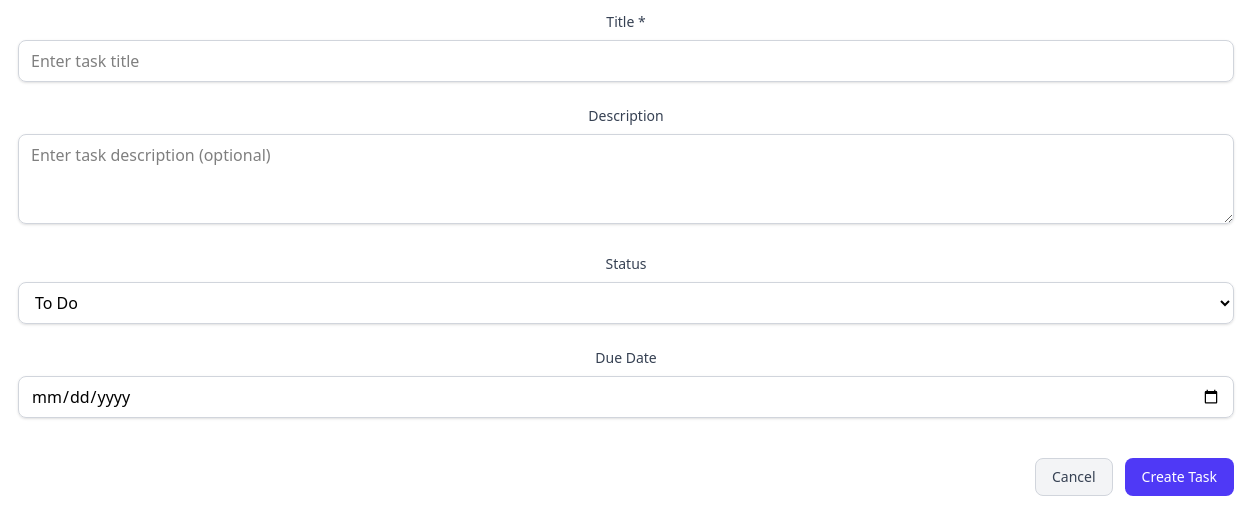
Test: TaskForm › Common behavior › should reset form when cancelled
Step 1. Type "Some title" into the field labelled "Title *" → (626, 61), box [18,40,1234,82]
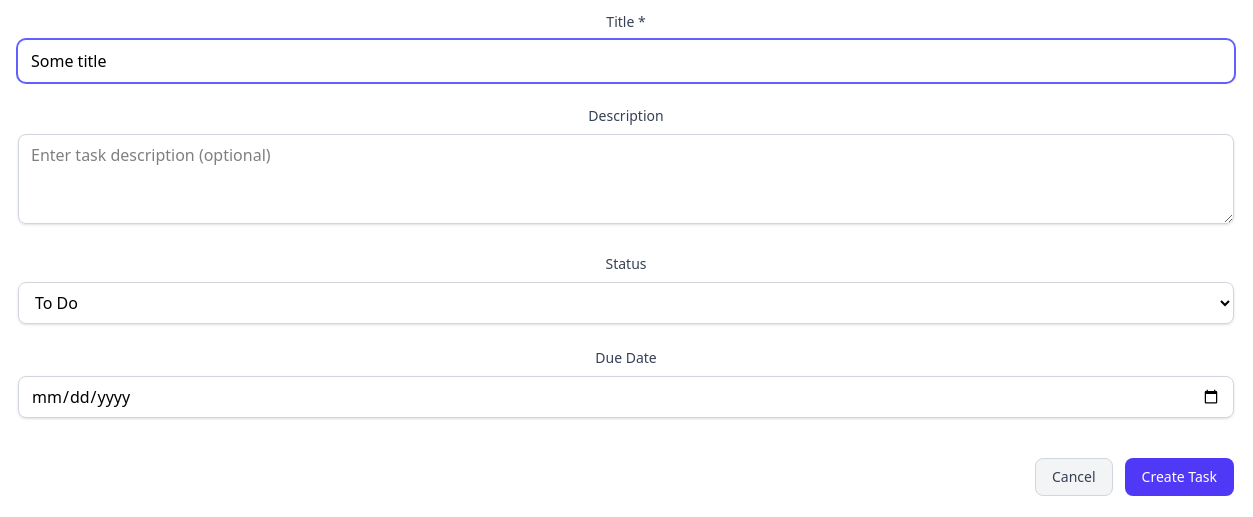
Step 2. Click the button "Cancel" → (1074, 477), box [1035,458,1113,496]
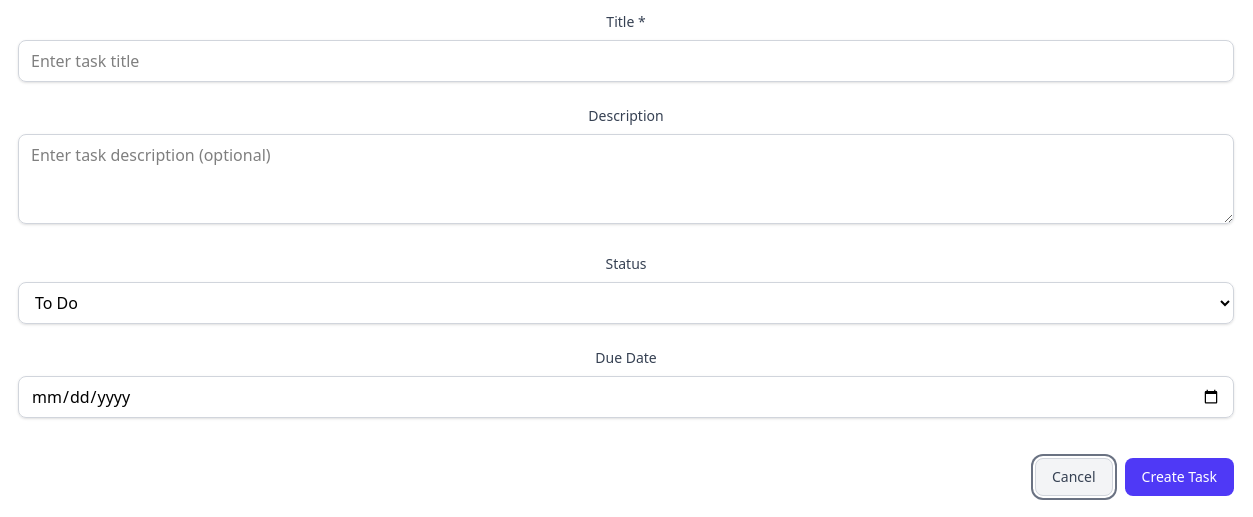
Expected: the field labelled "Title *" is empty, [18,40,1234,82]
